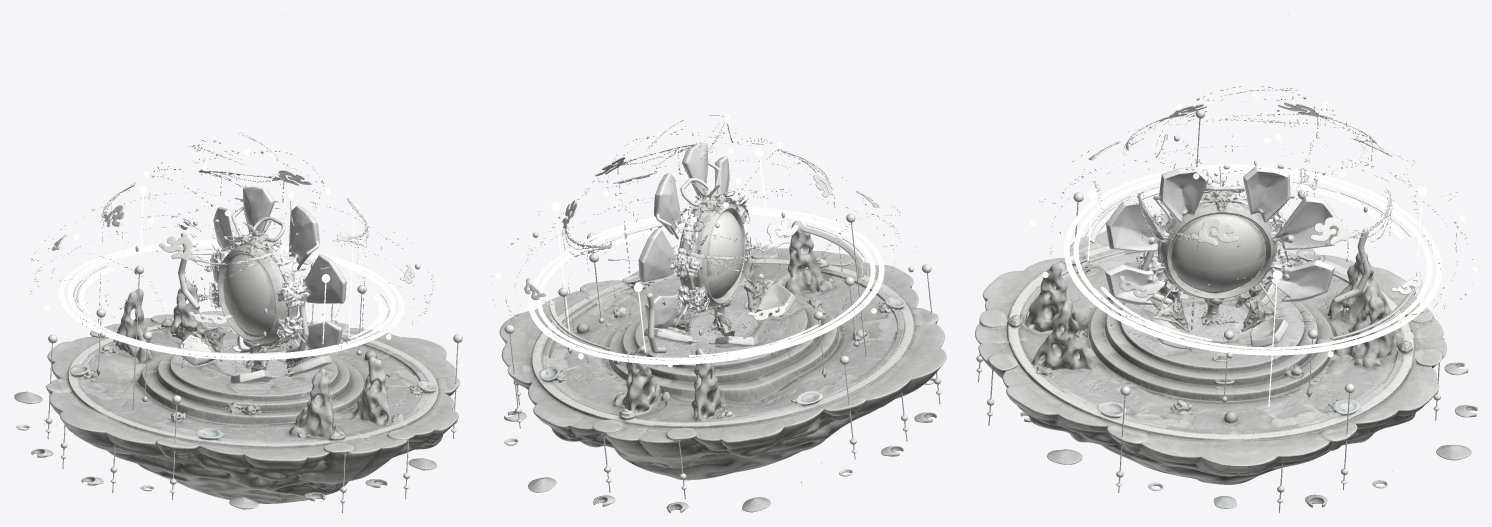
The model's file is house04.glb.
The picture shows the model from 3 angles, left to right: view 1: azimuth 30°, elevation 25°; view 2: azimuth 150°, elevation 25°; view 3: azimuth 270°, elevation 25°; orthographic projection. The views are drawn at different scales.
Bounding box in the file's own units: 0.7623 × 0.8017 × 0.7589.
5 materials, 4 textured.
